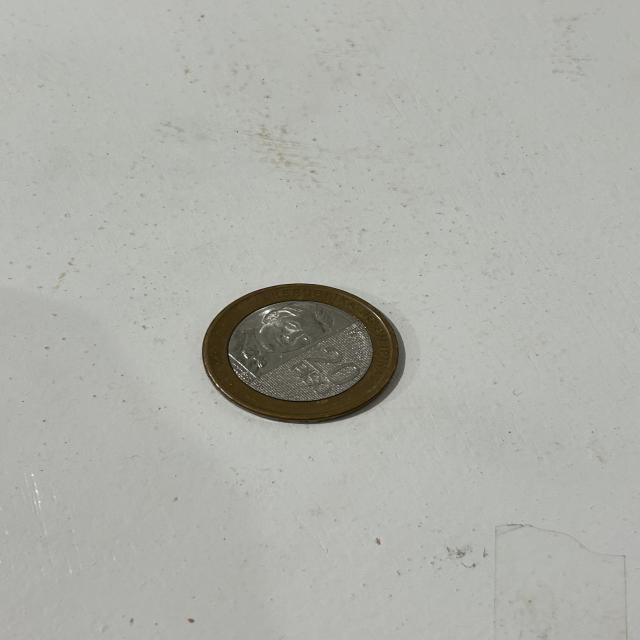20_New_Front: (286, 344, 356, 394)
